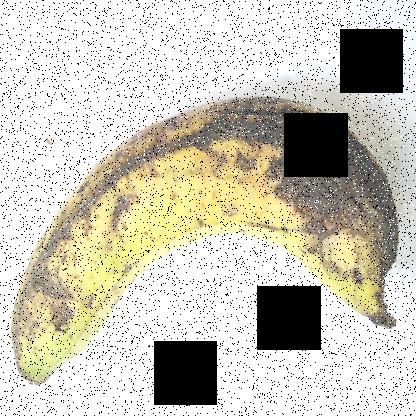rotten: (4, 81, 415, 359)
